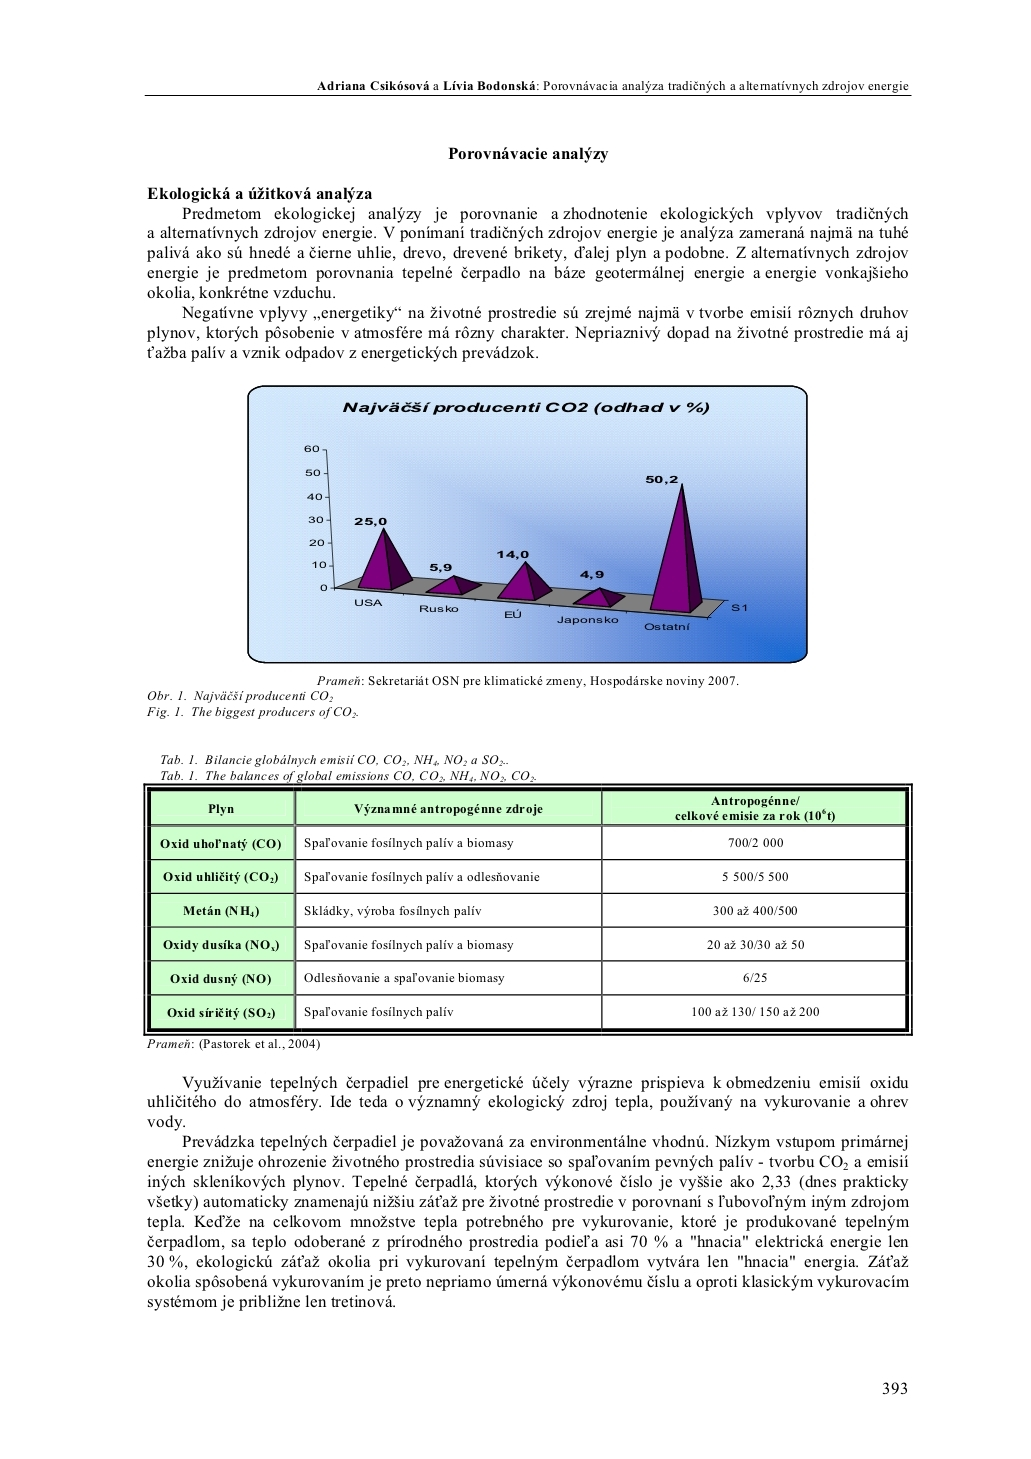Table: (143, 770, 912, 1036)
figure: (247, 384, 807, 664)
